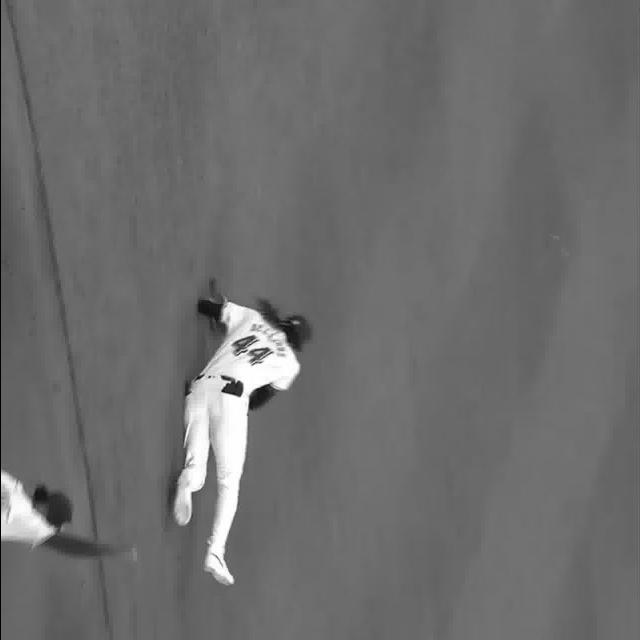shoe: (172, 466, 192, 526), (196, 555, 233, 586)
